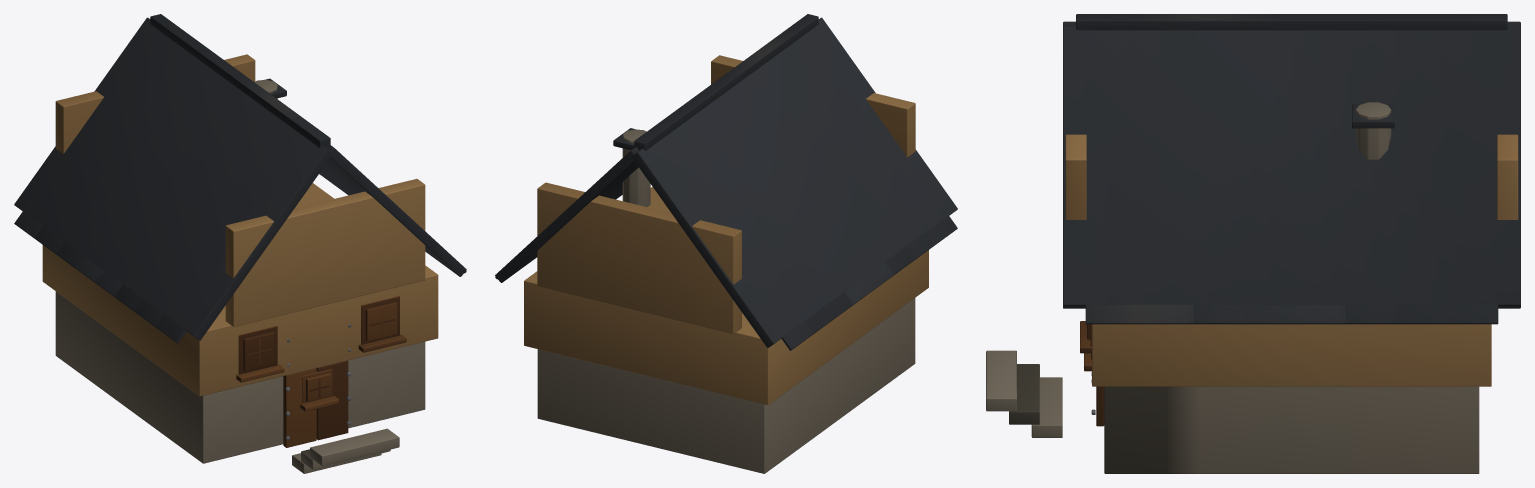
The model's file is building_freetown_hut.fbx.
3 views of the same model, side by side, from view 1: azimuth 30°, elevation 25°; view 2: azimuth 150°, elevation 25°; view 3: azimuth 270°, elevation 25° (orthographic). The views are drawn at different scales.
Parts seen in each view (by area): view 1: building_freetown_hut; view 2: building_freetown_hut; view 3: building_freetown_hut.
Part boxes in pixels (x1,y1,x2,y2): building_freetown_hut: [14, 14, 466, 473]; building_freetown_hut: [495, 14, 957, 473]; building_freetown_hut: [986, 14, 1520, 473].
Size of the model in its own units: 5.22 by 5.38 by 6.56.
